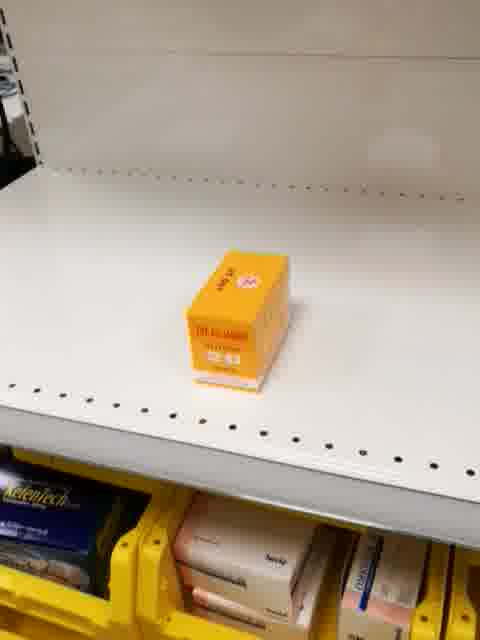jasminetea: (186, 249, 295, 395)
